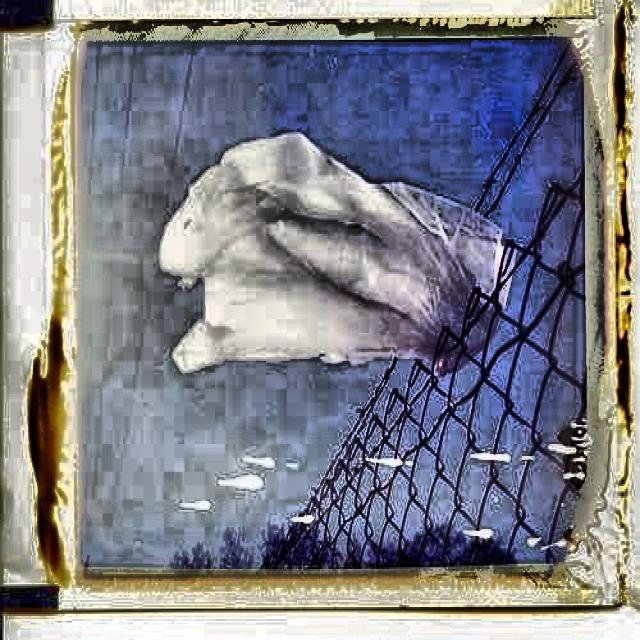Plastic: (146, 130, 522, 397)
